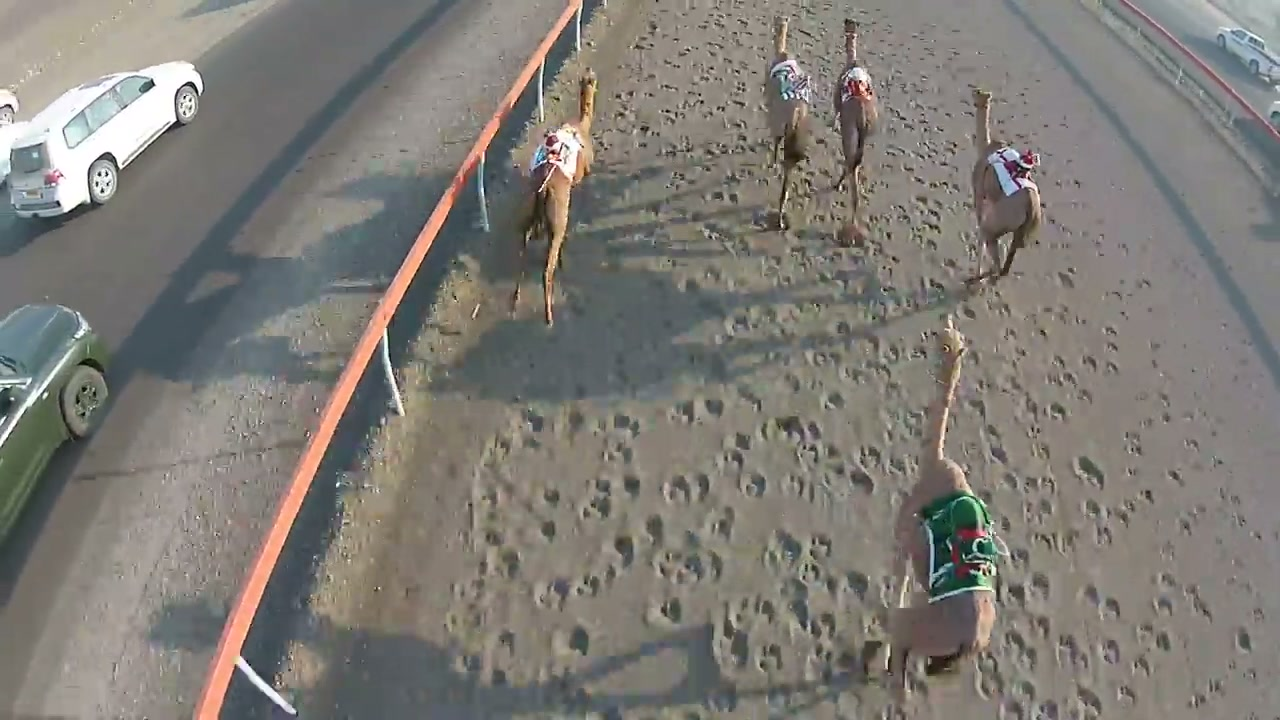animal_footprint: (339, 0, 1279, 719)
